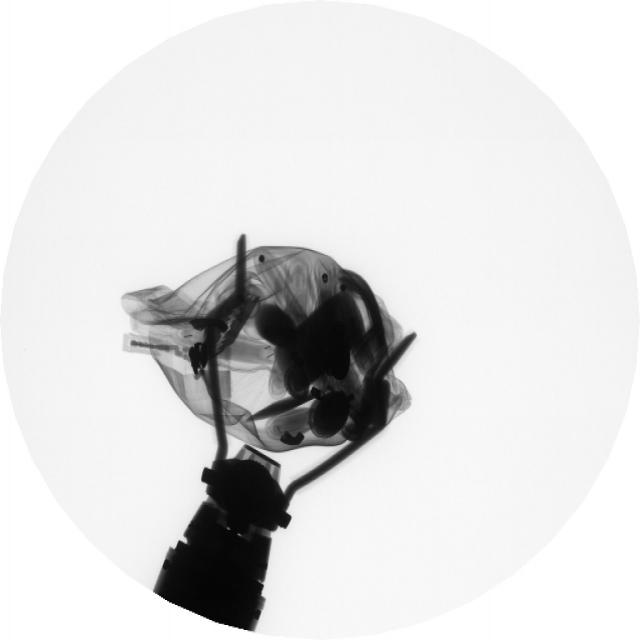BLADE: (212, 298, 260, 365)
